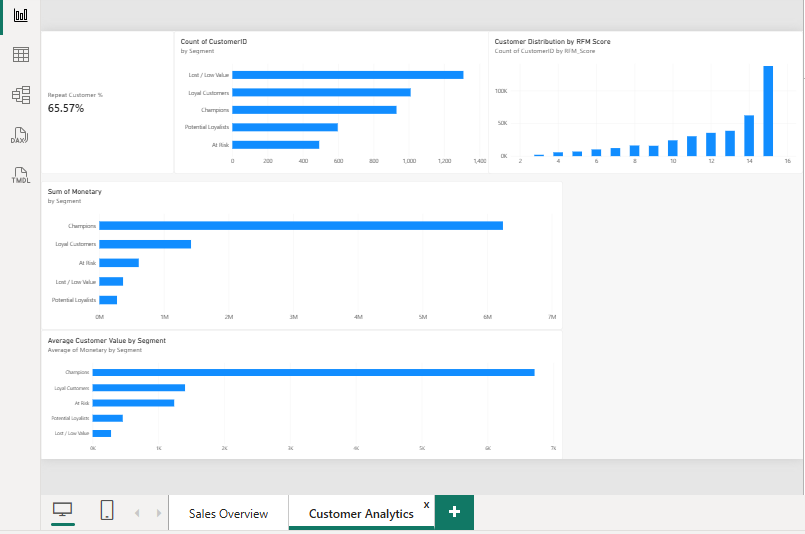

The dashboard page shown, as its layout file describes it:
{"tool":"powerbi","page":{"name":"Customer Analytics","canvas":[1920,1080],"ordinal":1},"visuals":[{"type":"cardVisual","fields":{"Data":["transactions_clean.Repeat Customer %"]},"box":[0,0,335.1,360.3],"z":0},{"type":"clusteredBarChart","fields":{"Category":["customer_rfm.Segment"],"Y":["CountNonNull(customer_rfm.CustomerID)"]},"box":[335.1,0,803.8,360.3],"z":1},{"type":"clusteredBarChart","fields":{"Category":["customer_rfm.Segment"],"Y":["Sum(customer_rfm.Monetary)"]},"box":[0,378,1315.3,375.4],"z":2},{"type":"clusteredColumnChart","title":"Customer Distribution by RFM Score","fields":{"Category":["customer_rfm.RFM_Score"],"Y":["CountNonNull(transactions_clean.CustomerID)"]},"box":[1126.3,0,793.7,360.3],"z":3},{"type":"clusteredBarChart","title":"Average Customer Value by Segment","fields":{"Category":["customer_rfm.Segment"],"Y":["Avg(customer_rfm.Monetary)"]},"box":[0,753.4,1315.3,327.6],"z":4},{"type":"textbox","box":[1315,378,605,375],"z":5}]}

Visuals, with their boxes on the page's 1920x1080 design canvas (x1, y1, x2, y2). These are canvas units, not pixel positions in the 805x534 screenshot, which may show the page scaled, cropped or inside an application window:
cardVisual - transactions_clean.Repeat Customer %: region(0, 0, 335, 360)
clusteredBarChart - customer_rfm.Segment x CountNonNull(customer_rfm.CustomerID): region(335, 0, 1139, 360)
clusteredBarChart - customer_rfm.Segment x Sum(customer_rfm.Monetary): region(0, 378, 1315, 753)
"Customer Distribution by RFM Score" clusteredColumnChart: region(1126, 0, 1920, 360)
"Average Customer Value by Segment" clusteredBarChart: region(0, 753, 1315, 1081)
textbox: region(1315, 378, 1920, 753)
